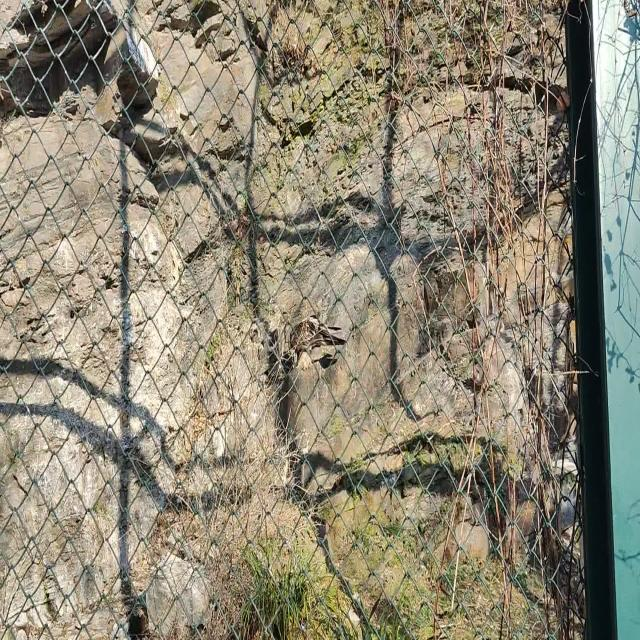bird: (288, 314, 347, 367)
